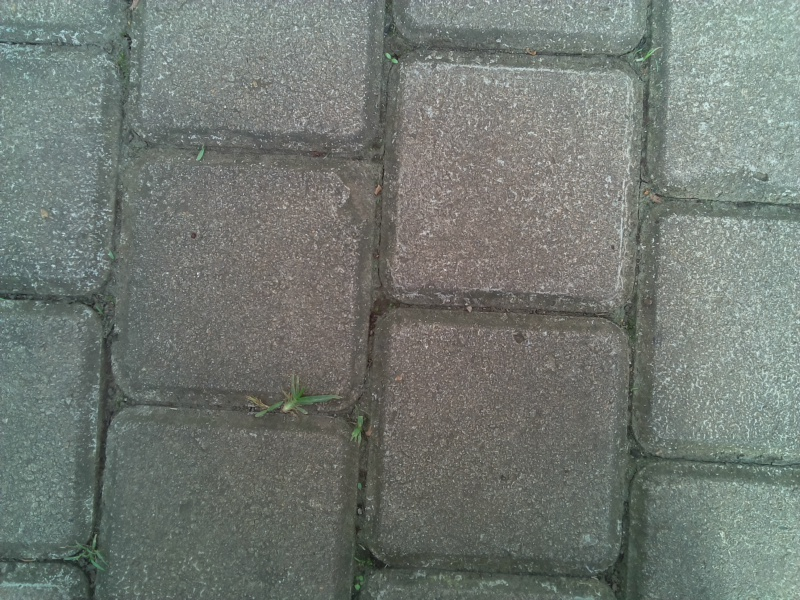Weed: (238, 380, 348, 425), (64, 534, 107, 577), (343, 414, 377, 447), (632, 43, 664, 72), (382, 44, 401, 72), (348, 571, 367, 595), (191, 142, 209, 165)
